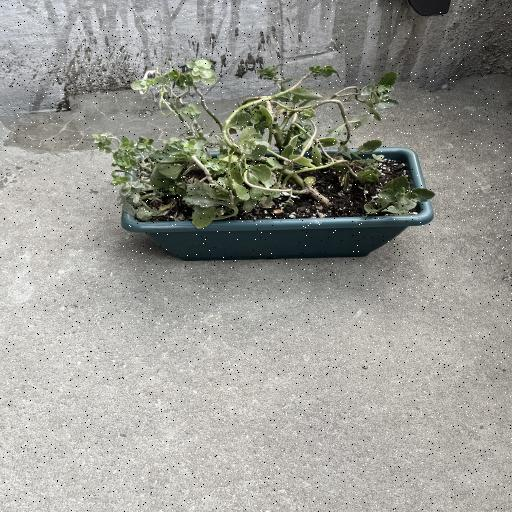Plant Pot: (121, 142, 435, 261)
